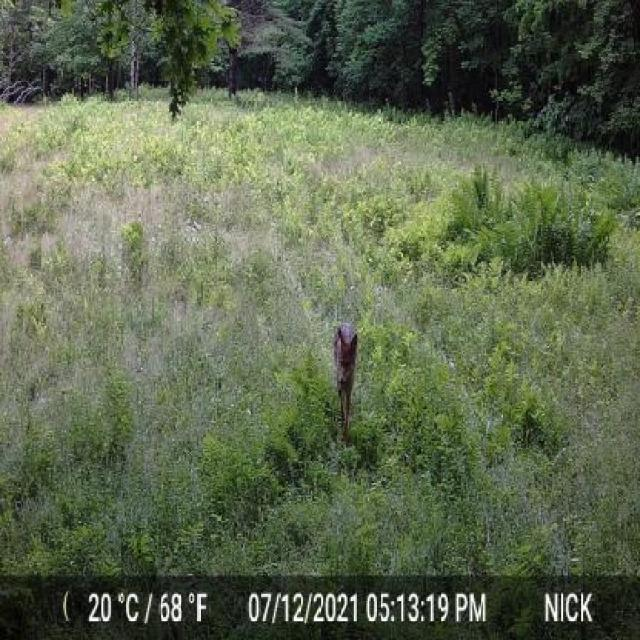Coyote: (335, 323, 359, 436)
